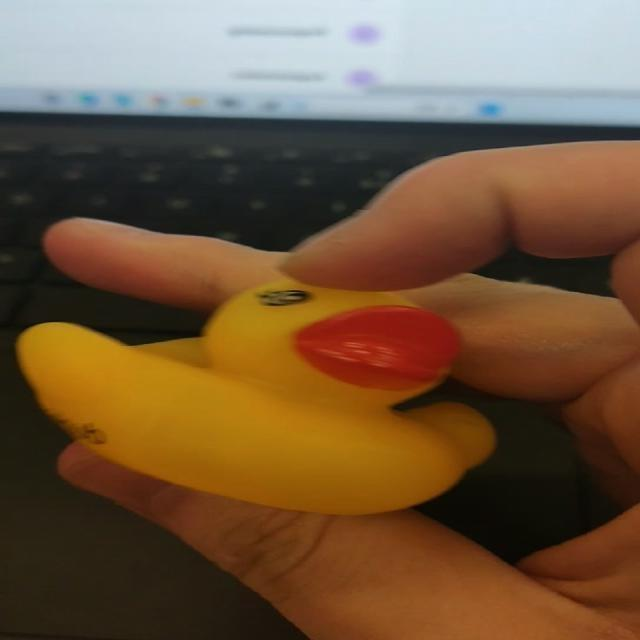rubber-duck: (17, 275, 492, 512)
